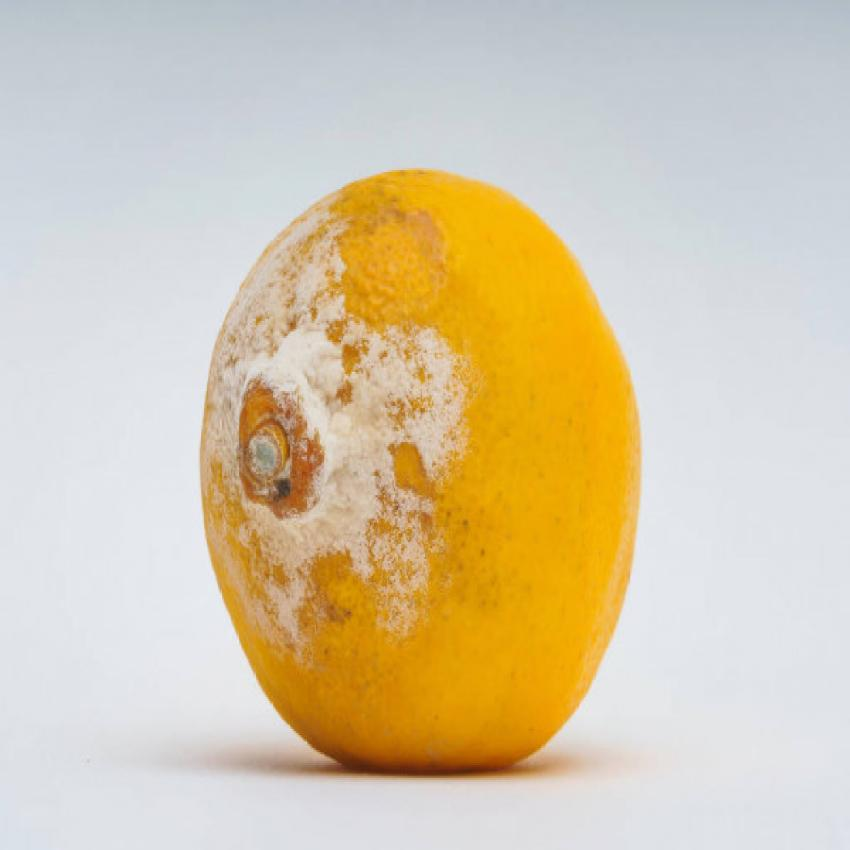Mal estado: (169, 146, 667, 791)
